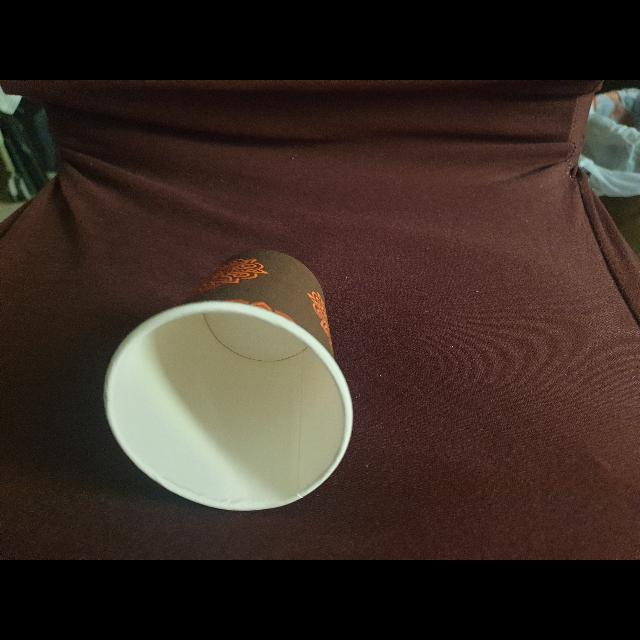trash: (95, 246, 362, 520)
